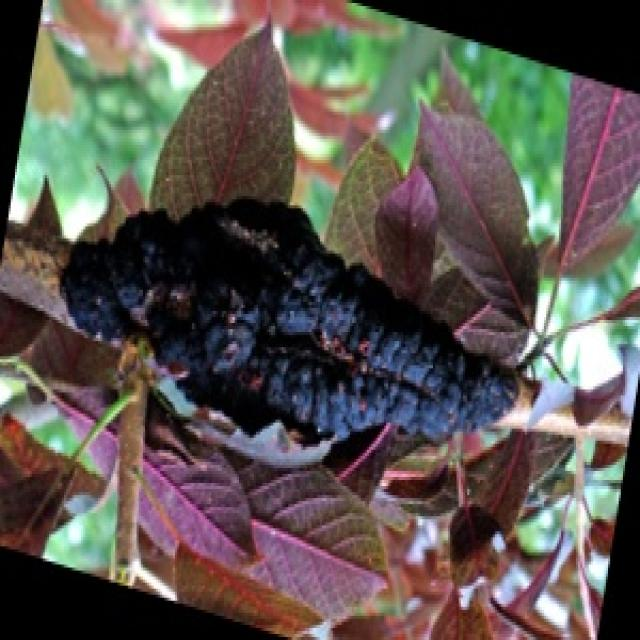Black_knot: (58, 190, 520, 444)
